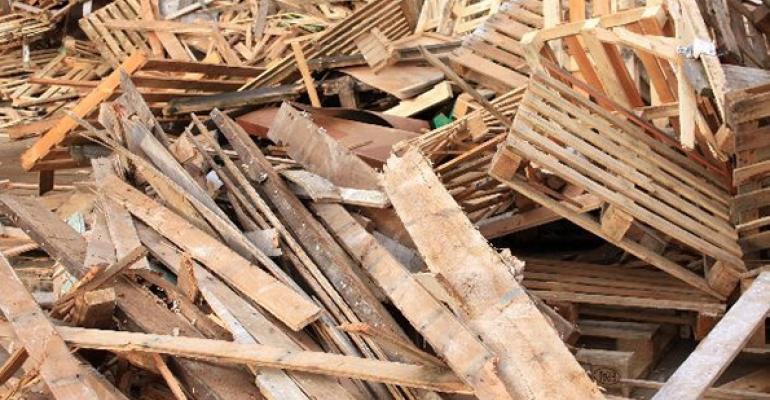wood: (70, 109, 443, 386), (491, 50, 745, 300), (449, 2, 551, 95), (310, 1, 415, 78), (76, 3, 165, 71)
